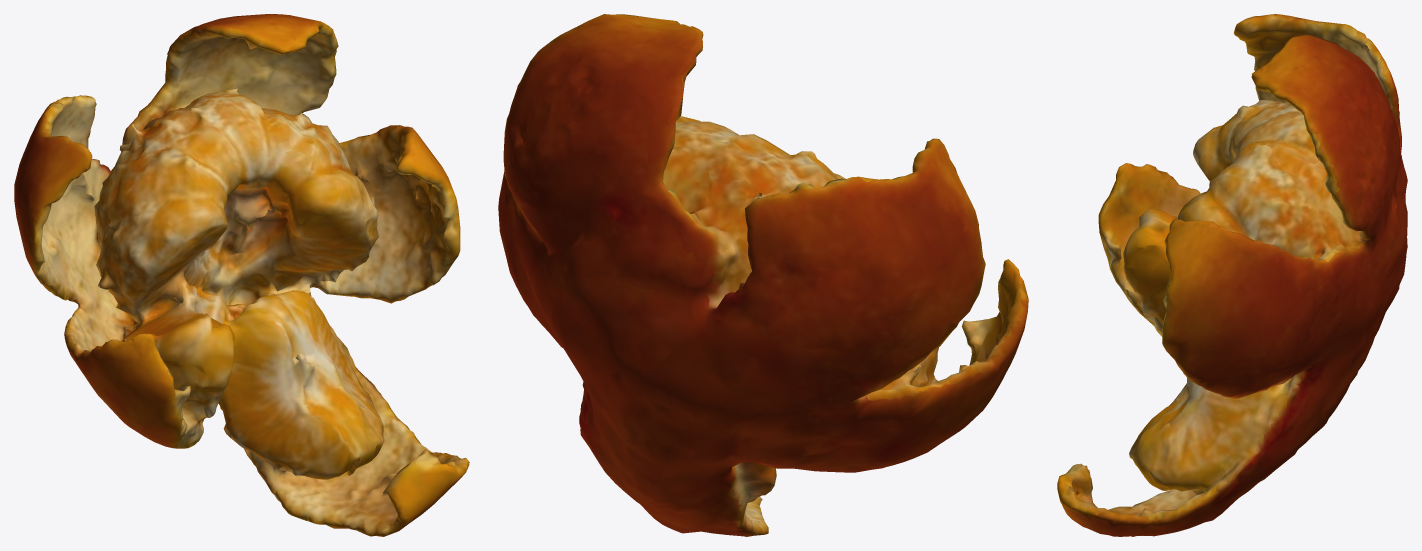
The model's file is khronos-mandarin-orange.glb.
3 renders of one model, left to right at view 1: azimuth 30°, elevation 25°; view 2: azimuth 150°, elevation 25°; view 3: azimuth 270°, elevation 25°, orthographic. The views are drawn at different scales.
Visible parts, largest first — view 1: MandarinOrange; view 2: MandarinOrange; view 3: MandarinOrange.
Boxes of the visible parts, left/top/right/bottom form: MandarinOrange: left=14, top=14, right=469, bottom=536; MandarinOrange: left=498, top=14, right=1028, bottom=536; MandarinOrange: left=1057, top=14, right=1407, bottom=536.
Bounding box in the file's own units: 0.0157 × 0.0173 × 0.0119.
1 material, 1 textured.
